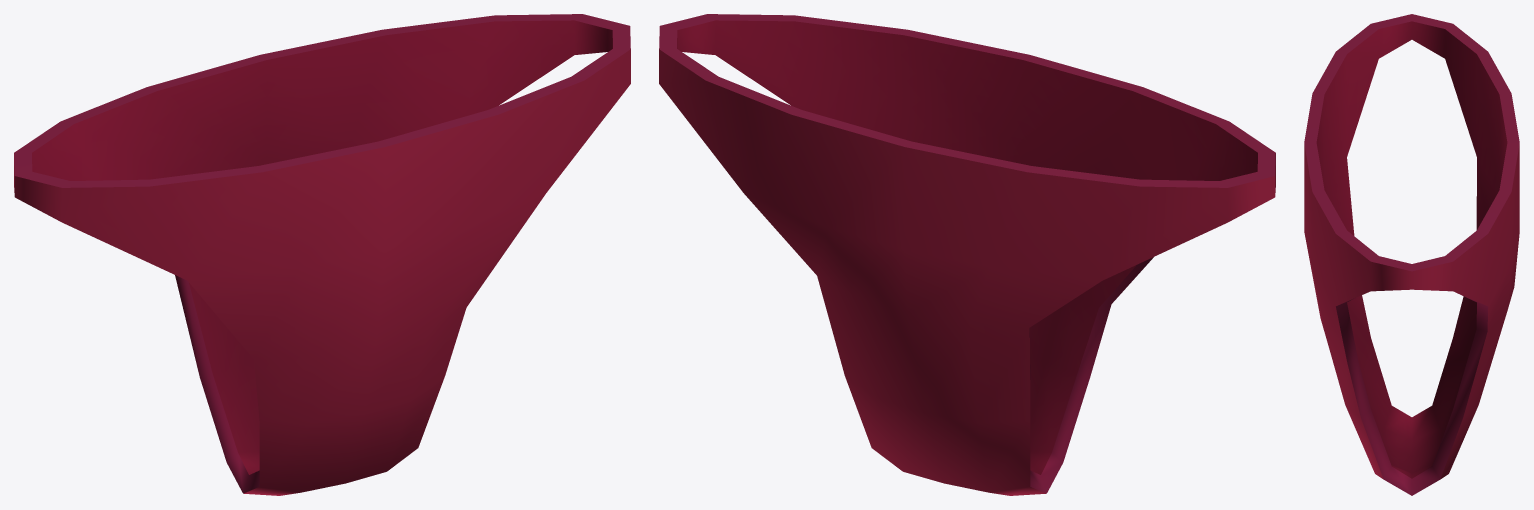
The model's file is human-clothing-underwear_v1.glb.
3 views of the same model, side by side, from view 1: azimuth 30°, elevation 25°; view 2: azimuth 150°, elevation 25°; view 3: azimuth 270°, elevation 25° (orthographic). The views are drawn at different scales.
Visible parts, largest first — view 1: Underwear; view 2: Underwear; view 3: Underwear.
Part boxes in pixels (x1,y1,x2,y2): Underwear: (14,14,630,495); Underwear: (659,14,1275,495); Underwear: (1304,14,1519,495).
Bounding box in the file's own units: 0.3 × 0.1793 × 0.1062.
